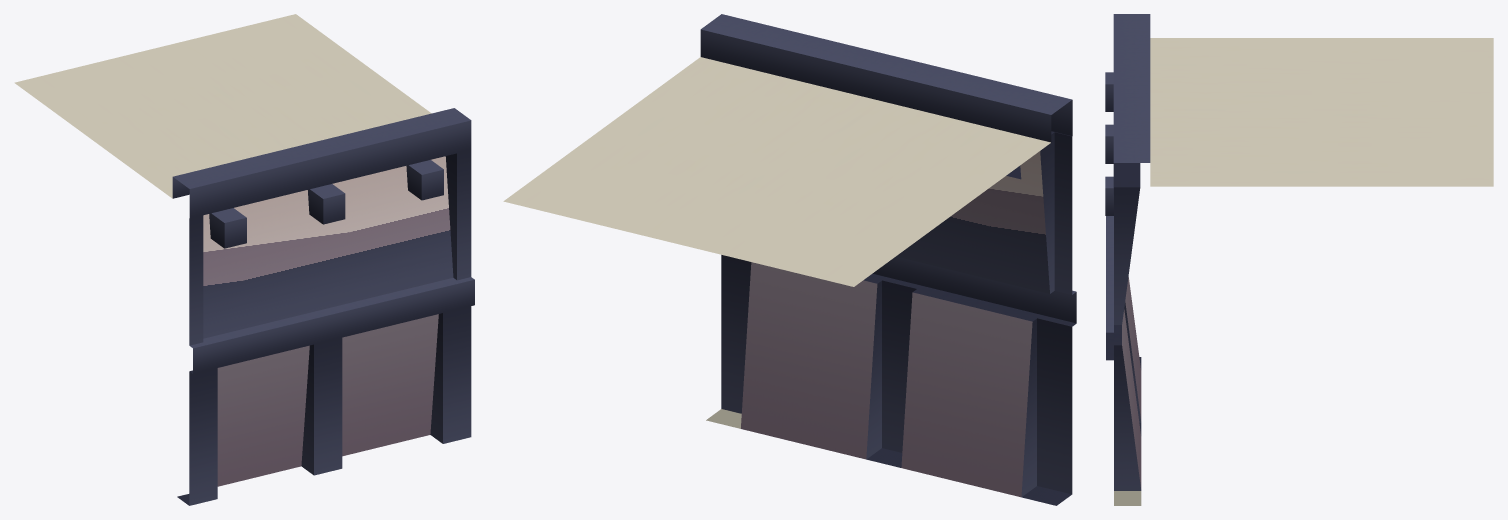
Rendered from middleTile.fbx.
3 renders of one model, left to right at view 1: azimuth 30°, elevation 25°; view 2: azimuth 150°, elevation 25°; view 3: azimuth 270°, elevation 25°, orthographic. The views are drawn at different scales.
Parts seen in each view (by area): view 1: M1mainMesh; view 2: M1mainMesh; view 3: M1mainMesh.
Part boxes in pixels (left/top/right/bottom): M1mainMesh: left=14, top=14, right=474, bottom=505; M1mainMesh: left=503, top=14, right=1076, bottom=505; M1mainMesh: left=1105, top=14, right=1493, bottom=505.
Bounding box in the file's own units: 200 × 215 × 220.
